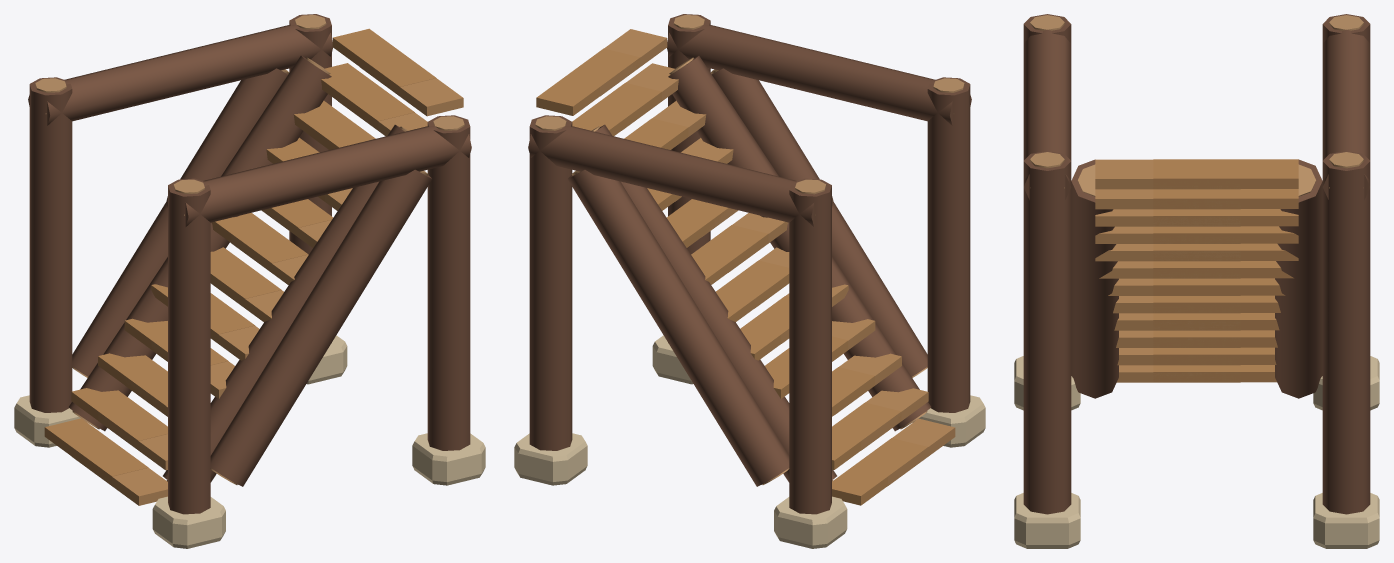
The model's file is stairs.glb.
3 views of the same model, side by side, from view 1: azimuth 30°, elevation 25°; view 2: azimuth 150°, elevation 25°; view 3: azimuth 270°, elevation 25° (orthographic). The views are drawn at different scales.
Parts seen in each view (by area): view 1: LadderBrace2, LadderSupport, LadderSupport2, LadderSupport4, LadderTopBeam2, LadderTopBeam, LadderBrace, LadderRail, LadderRail2, LadderRung_11, LadderRung_00, LadderRung_01 (+14 smaller); view 2: LadderBrace, LadderSupport2, LadderSupport, LadderSupport3, LadderTopBeam, LadderTopBeam2, LadderBrace2, LadderRail2, LadderRail, LadderRung_11, LadderRung_00, LadderRung_01 (+14 smaller); view 3: LadderSupport3, LadderSupport4, LadderRail, LadderRail2, LadderRung_11, LadderTopBeam, LadderTopBeam2, LadderRung_10, LadderRung_09, LadderRung_08, LadderRung_07, LadderRung_06 (+12 smaller).
Part boxes in pixels (box(x1,y1,x2,y2)): LadderBrace2: box(210, 169, 432, 486); LadderSupport: box(29, 77, 72, 412); LadderSupport2: box(168, 178, 210, 514); LadderSupport4: box(427, 115, 470, 450); LadderTopBeam2: box(166, 126, 471, 226); LadderTopBeam: box(28, 24, 332, 125); LadderBrace: box(72, 68, 289, 377); LadderRail: box(69, 56, 331, 431); LadderRail2: box(163, 124, 408, 482); LadderRung_11: box(332, 28, 463, 116); LadderRung_00: box(44, 418, 167, 505); LadderRung_01: box(71, 388, 167, 470); LadderBrace: box(567, 169, 789, 486); LadderSupport2: box(927, 77, 970, 412); LadderSupport: box(789, 178, 831, 514); LadderSupport3: box(529, 115, 572, 450); LadderTopBeam: box(528, 126, 833, 226); LadderTopBeam2: box(667, 24, 971, 125); LadderBrace2: box(710, 68, 927, 377); LadderRail2: box(668, 56, 930, 431); LadderRail: box(591, 124, 836, 482); LadderRung_11: box(536, 29, 667, 115); LadderRung_00: box(832, 418, 955, 505); LadderRung_01: box(832, 388, 928, 469); LadderSupport3: box(1322, 151, 1370, 514); LadderSupport4: box(1023, 151, 1071, 514); LadderRail: box(1275, 159, 1322, 398); LadderRail2: box(1071, 159, 1118, 398); LadderRung_11: box(1095, 159, 1298, 189); LadderTopBeam: box(1322, 29, 1370, 199); LadderTopBeam2: box(1023, 29, 1071, 199); LadderRung_10: box(1095, 189, 1298, 209); LadderRung_09: box(1095, 209, 1298, 226); LadderRung_08: box(1095, 226, 1298, 243); LadderRung_07: box(1095, 243, 1298, 261); LadderRung_06: box(1099, 261, 1293, 278).
Bounding box in the file's own units: 1.95 × 2 × 1.76.
